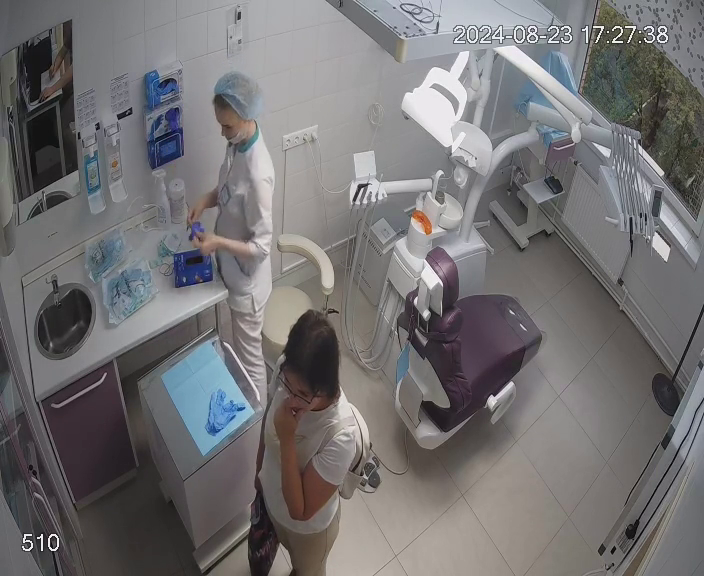Empty: (380, 254, 548, 450)
